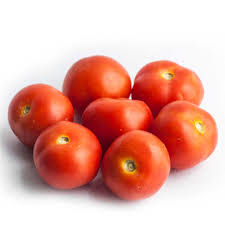tomato: (35, 121, 105, 190), (105, 132, 171, 200), (156, 100, 218, 171)
